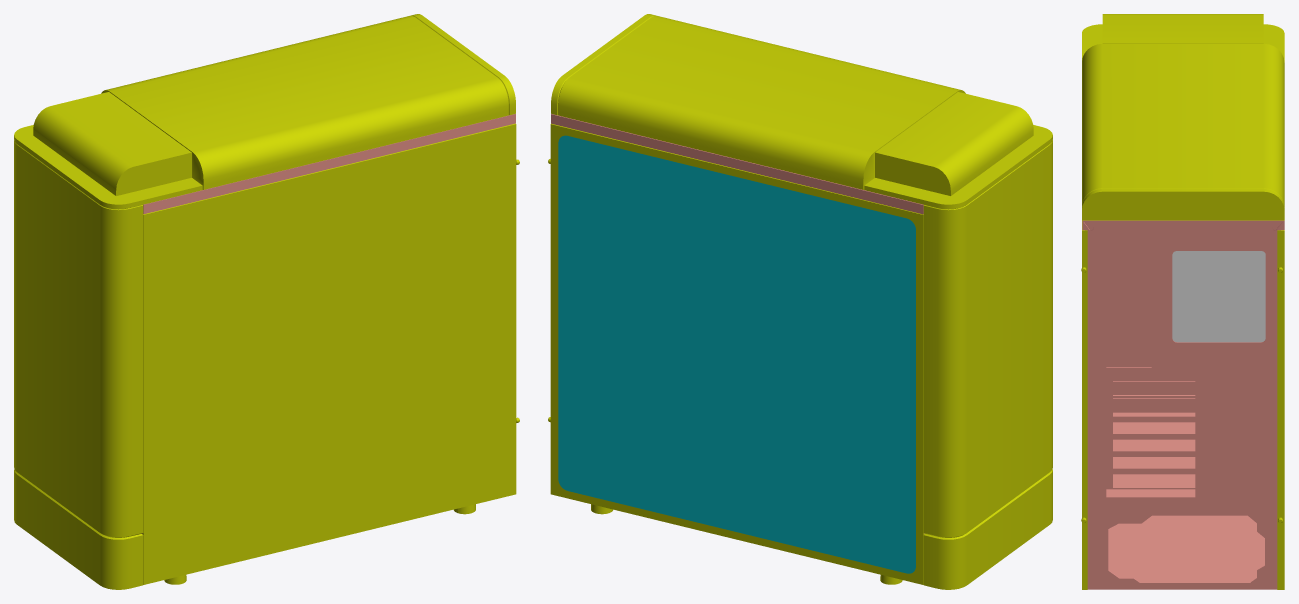
The model's file is pc_case_f_cover.fbx.
3 renders of one model, left to right at view 1: azimuth 30°, elevation 25°; view 2: azimuth 150°, elevation 25°; view 3: azimuth 270°, elevation 25°, orthographic. The views are drawn at different scales.
Visible parts, largest first — view 1: pc_case_f_cover, pc_case_f_body; view 2: pc_case_f_cover_door, pc_case_f_cover, pc_case_f_body; view 3: pc_case_f_body, pc_case_f_cover, pc_case_f_wire, pc_case_f_cover_door.
Boxes of the visible parts, x1=… form: pc_case_f_cover: x1=14, y1=14, x2=519, y2=589; pc_case_f_body: x1=142, y1=114, x2=515, y2=533; pc_case_f_cover_door: x1=548, y1=123, x2=924, y2=584; pc_case_f_cover: x1=551, y1=14, x2=1052, y2=589; pc_case_f_body: x1=551, y1=114, x2=924, y2=533; pc_case_f_body: x1=1082, y1=220, x2=1284, y2=589; pc_case_f_cover: x1=1081, y1=14, x2=1284, y2=589; pc_case_f_wire: x1=1172, y1=251, x2=1265, y2=342; pc_case_f_cover_door: x1=1277, y1=230, x2=1284, y2=589.
Size of the model in its own units: 49.58 by 48.87 by 21.95.
